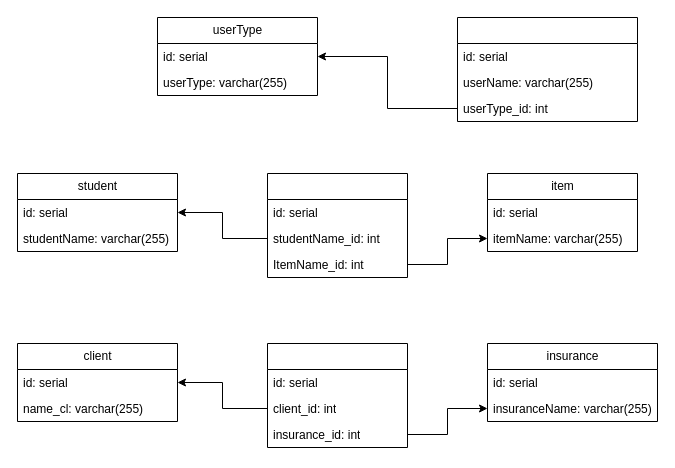
The diagram is 675 pixels wide and 468 high, and some of its shapes have lost their labels. Here are the shapes that lost their labels. From the top down, the box of each, then its label:
(456, 16, 638, 122): users
(266, 172, 408, 278): student_item
(266, 342, 408, 448): client_insurance
